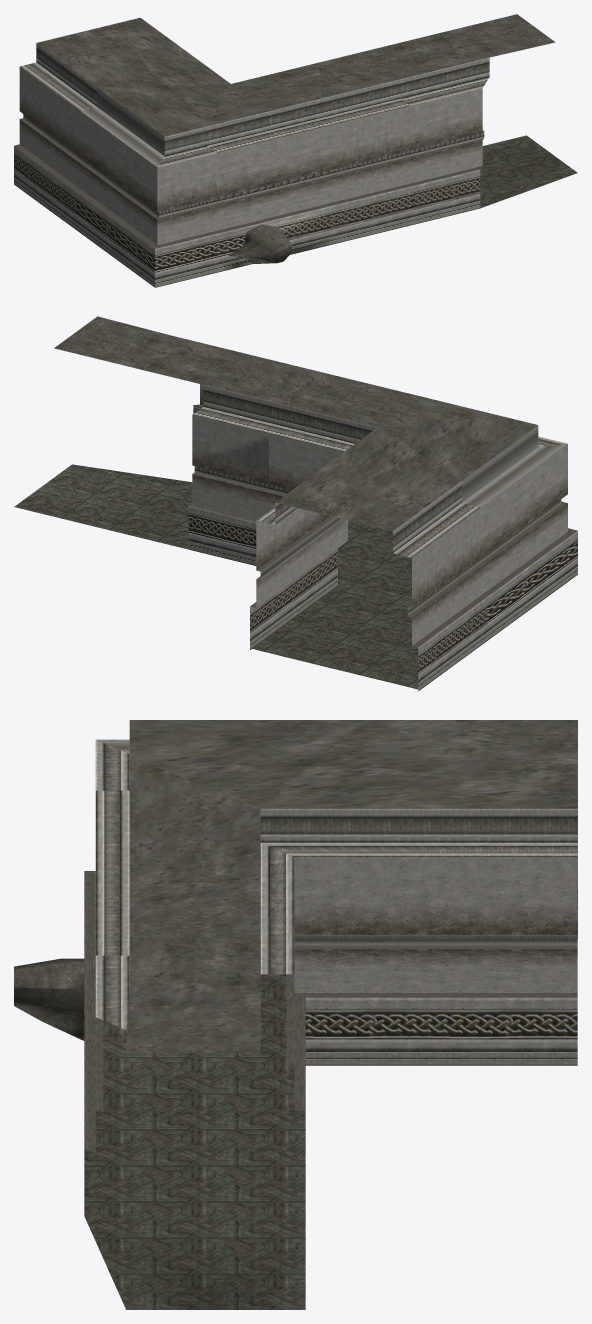
Rendered from DWARF_PALACE_ARKENSTONE_ROOM_HALLWAYA.fbx.
3 views of the same model, one above another, from view 1: azimuth 30°, elevation 25°; view 2: azimuth 150°, elevation 25°; view 3: azimuth 270°, elevation 25° (orthographic). The views are drawn at different scales.
Parts seen in each view (by area): view 1: DWARF_PALACE_ARKENSTONE_ROOM_HALLWAYA; view 2: DWARF_PALACE_ARKENSTONE_ROOM_HALLWAYA; view 3: DWARF_PALACE_ARKENSTONE_ROOM_HALLWAYA.
Part boxes in pixels (bbox=[...]): DWARF_PALACE_ARKENSTONE_ROOM_HALLWAYA: bbox=[14, 14, 577, 287]; DWARF_PALACE_ARKENSTONE_ROOM_HALLWAYA: bbox=[14, 316, 577, 691]; DWARF_PALACE_ARKENSTONE_ROOM_HALLWAYA: bbox=[14, 720, 577, 1309].
Size of the model in its own units: 234005 by 70000 by 150345.
7 materials, 7 textured.
